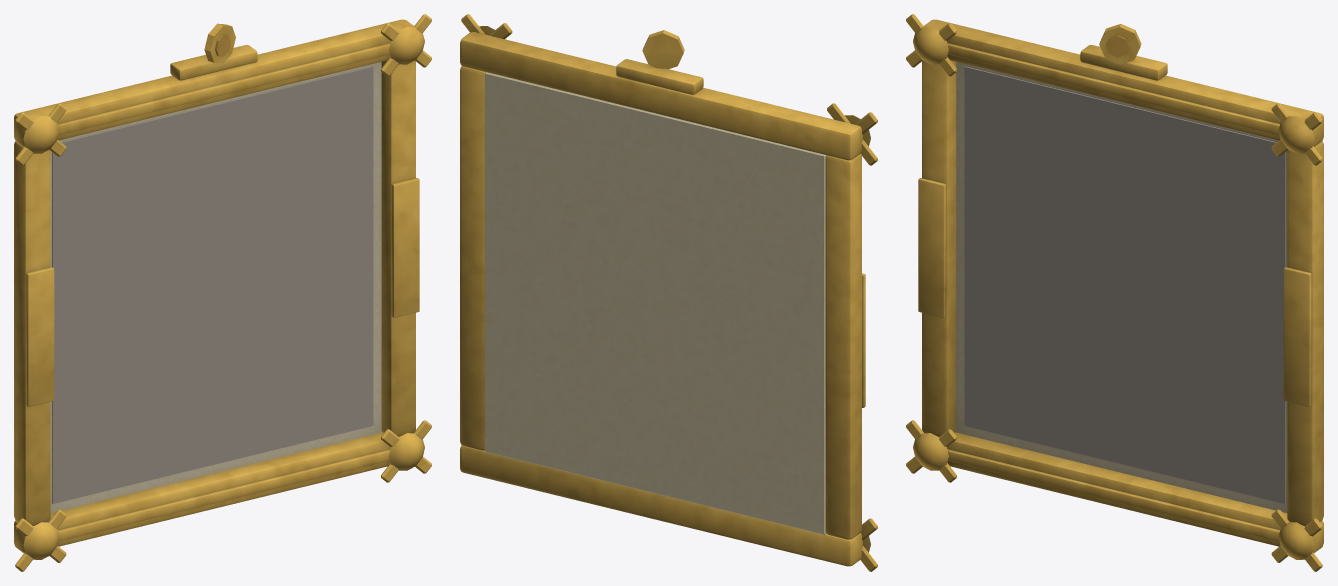
The model's file is frame_painting_s.glb.
3 renders of one model, left to right at view 1: azimuth 30°, elevation 25°; view 2: azimuth 150°, elevation 25°; view 3: azimuth 330°, elevation 25°, orthographic.
Visible parts, largest first — view 1: canvas, frame_painting_s; view 2: frame_painting_s; view 3: canvas, frame_painting_s.
Part boxes in pixels (x1,y1,x2,y2): canvas: (52, 66, 373, 503); frame_painting_s: (14, 14, 431, 571); frame_painting_s: (460, 14, 877, 571); canvas: (964, 66, 1285, 503); frame_painting_s: (906, 14, 1323, 571).
Bounding box in the file's own units: 3.69 × 4.18 × 0.325.
2 materials, 1 textured.
